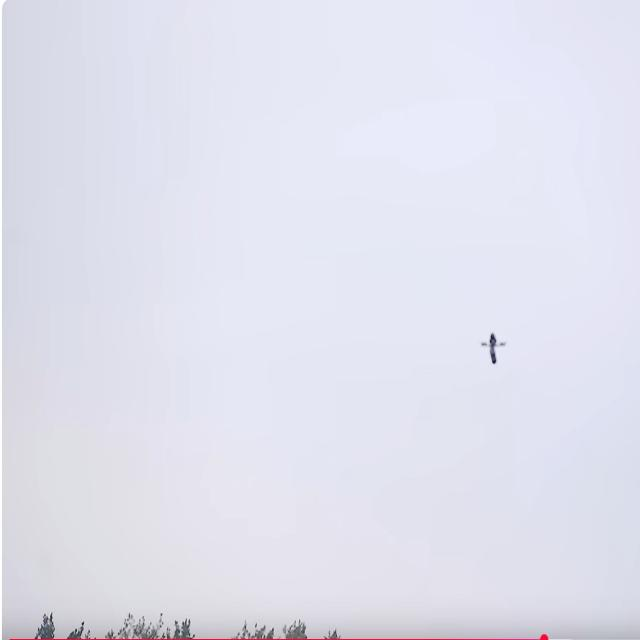drone: (479, 330, 509, 367)
